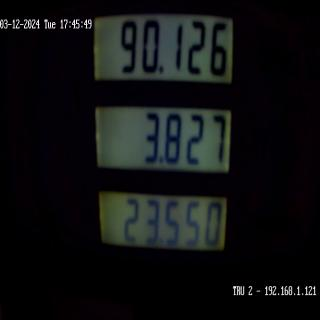screen: (90, 1, 241, 286)
